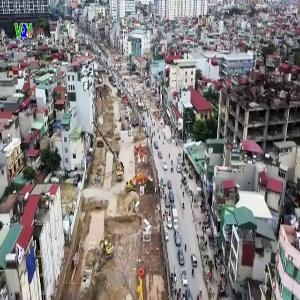drone: (105, 103, 140, 138)
